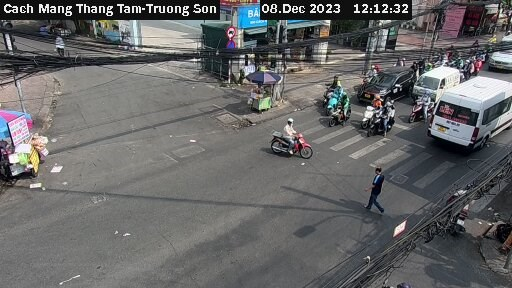car: (427, 76, 512, 150), (363, 66, 412, 100), (414, 67, 459, 100), (494, 36, 512, 69)
motorbike: (264, 122, 321, 164), (373, 104, 400, 135), (330, 97, 359, 125), (355, 97, 380, 127), (323, 77, 349, 101), (412, 96, 433, 122)
